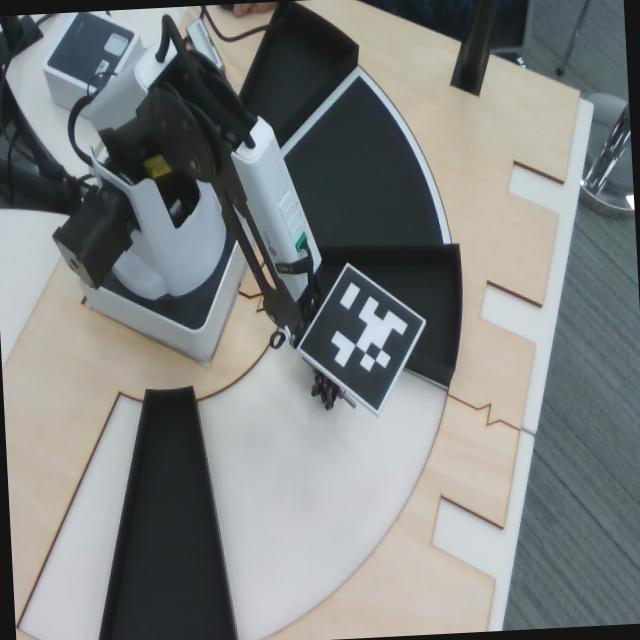board: (252, 64, 457, 260)
box: (96, 384, 237, 640), (207, 1, 362, 168), (307, 242, 461, 390)
